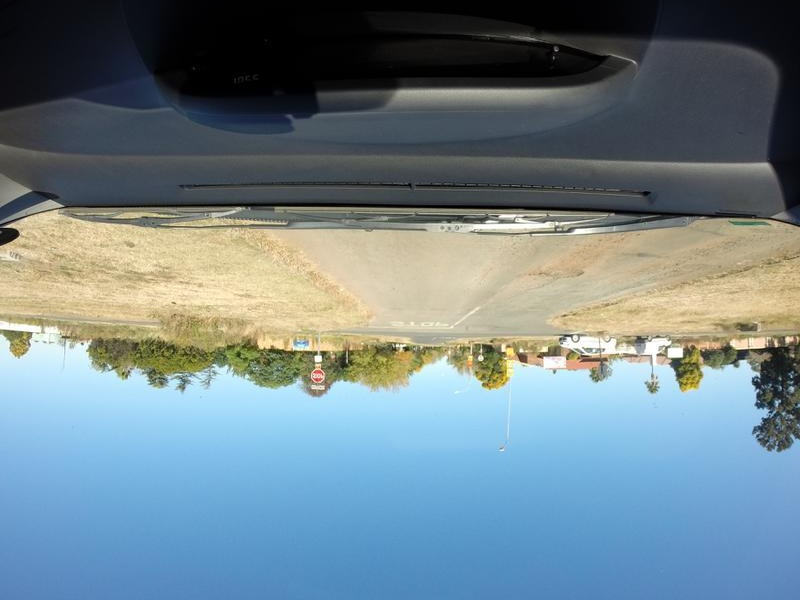pothole: (640, 250, 717, 273), (524, 265, 592, 282), (574, 238, 632, 252)
